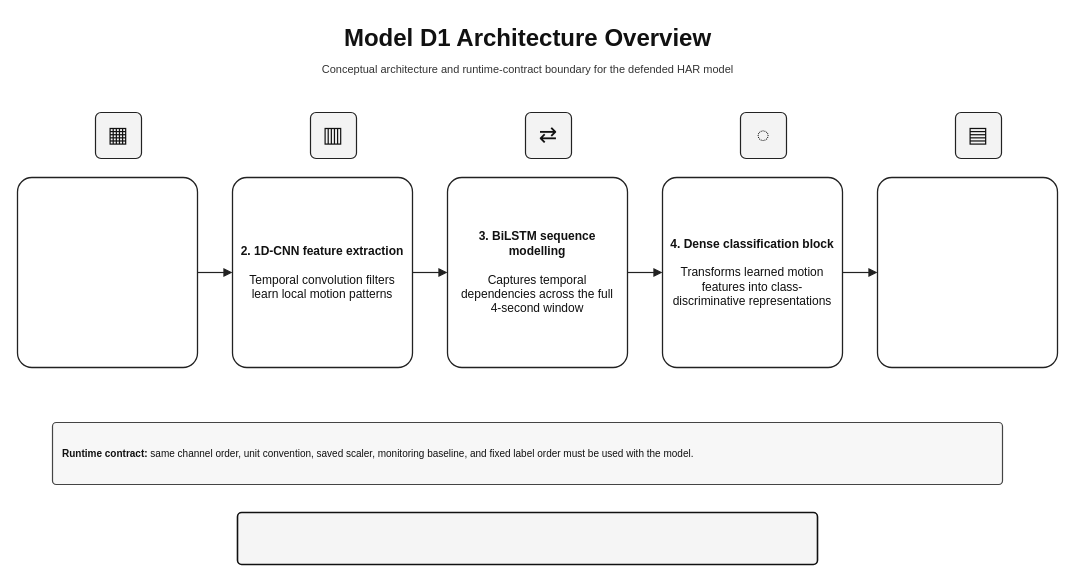
This 1076x582 diagram has some shape labels left out. The shapes that lost their labels are listed below. From the top down, each one's centre as x and y in pixels, then its label:
the point at 107,272: 1. Input window (200, 6) 4 seconds of six-channel wearable data at 50 Hz
the point at 967,272: 5. 11-class softmax output Class probabilities with fixed label order
the point at 527,538: Final runtime model: Model D1, 967,499 total parameters.
